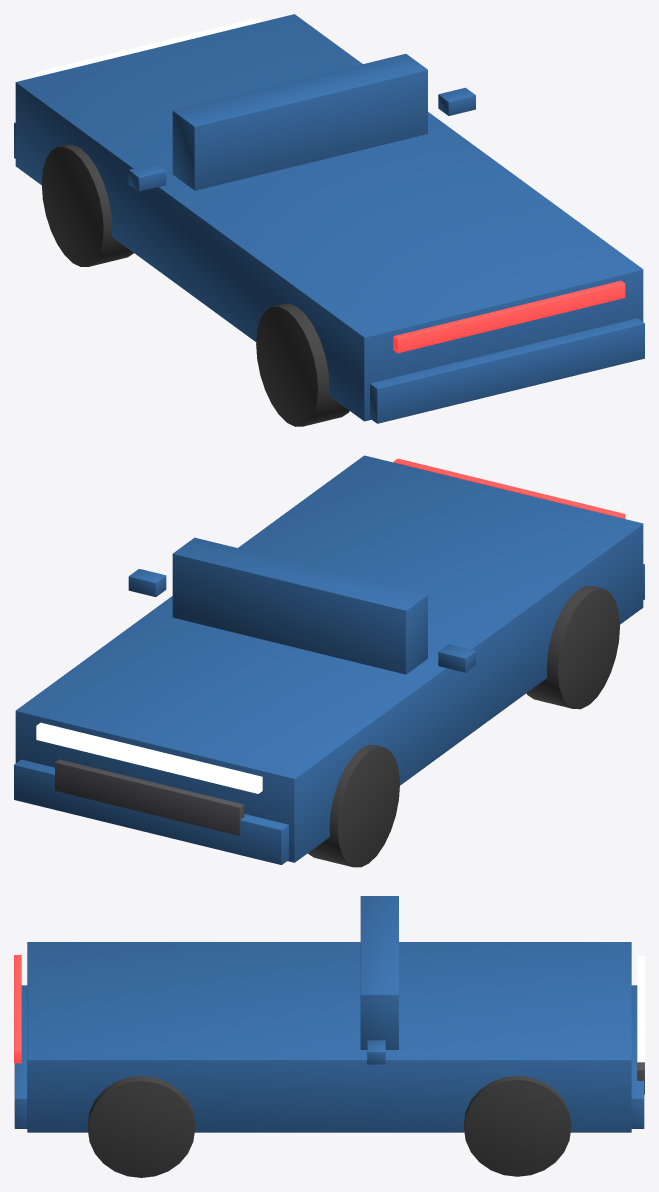
Rendered from vehicle.glb.
The picture shows the model from 3 angles, top to bottom: view 1: azimuth 30°, elevation 25°; view 2: azimuth 150°, elevation 25°; view 3: azimuth 270°, elevation 25°; orthographic projection. The views are drawn at different scales.
Parts seen in each view (by area): view 1: BODY_Main, BODY_Roof, BODY_Bumpers_Rear, WHEEL_RR_Tire, WHEEL_FR_Tire, LIGHT_Taillights, LIGHT_Headlights, BODY_Mirror_R, BODY_Mirror_L; view 2: BODY_Main, BODY_Roof, BODY_Bumpers_Front, WHEEL_RR_Tire, WHEEL_FR_Tire, BODY_Grille, LIGHT_Headlights, LIGHT_Taillights, BODY_Mirror_L, BODY_Mirror_R; view 3: BODY_Main, WHEEL_RL_Tire, WHEEL_FL_Tire, BODY_Roof, BODY_Bumpers_Rear, BODY_Bumpers_Front, LIGHT_Taillights, LIGHT_Headlights, BODY_Mirror_L.
Part boxes in pixels (x1,y1,x2,y2): BODY_Main: (15,14,643,421); BODY_Roof: (172,54,427,190); BODY_Bumpers_Rear: (370,318,644,423); WHEEL_RR_Tire: (256,303,349,426); WHEEL_FR_Tire: (41,144,133,266); LIGHT_Taillights: (393,280,625,353); LIGHT_Headlights: (36,18,262,76); BODY_Mirror_R: (128,163,166,191); BODY_Mirror_L: (438,87,475,115); BODY_Main: (15,455,643,862); BODY_Roof: (172,537,427,674); BODY_Bumpers_Front: (14,759,288,864); WHEEL_RR_Tire: (526,586,619,709); WHEEL_FR_Tire: (308,745,399,867); BODY_Grille: (55,759,244,835); LIGHT_Headlights: (36,722,262,793); LIGHT_Taillights: (393,458,625,518); BODY_Mirror_L: (128,569,166,596); BODY_Mirror_R: (438,644,475,672); BODY_Main: (27,942,631,1132); WHEEL_RL_Tire: (87,1076,194,1177); WHEEL_FL_Tire: (464,1076,571,1176); BODY_Roof: (360,896,398,1049); BODY_Bumpers_Rear: (14,985,27,1128); BODY_Bumpers_Front: (631,985,644,1128); LIGHT_Taillights: (14,955,21,1063); LIGHT_Headlights: (637,956,644,1062); BODY_Mirror_L: (367,1040,385,1064).
Bounding box in the file's own units: 2.2 × 1.21 × 4.11.
